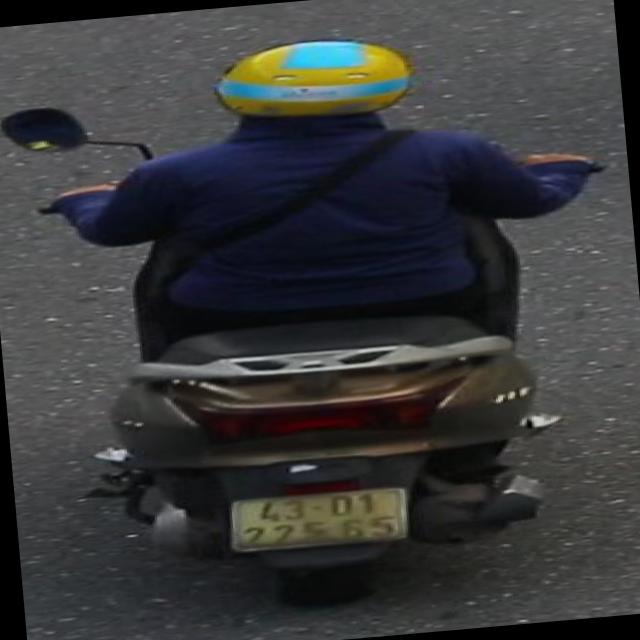LP: (216, 478, 420, 559)
helmet: (208, 24, 426, 153)
